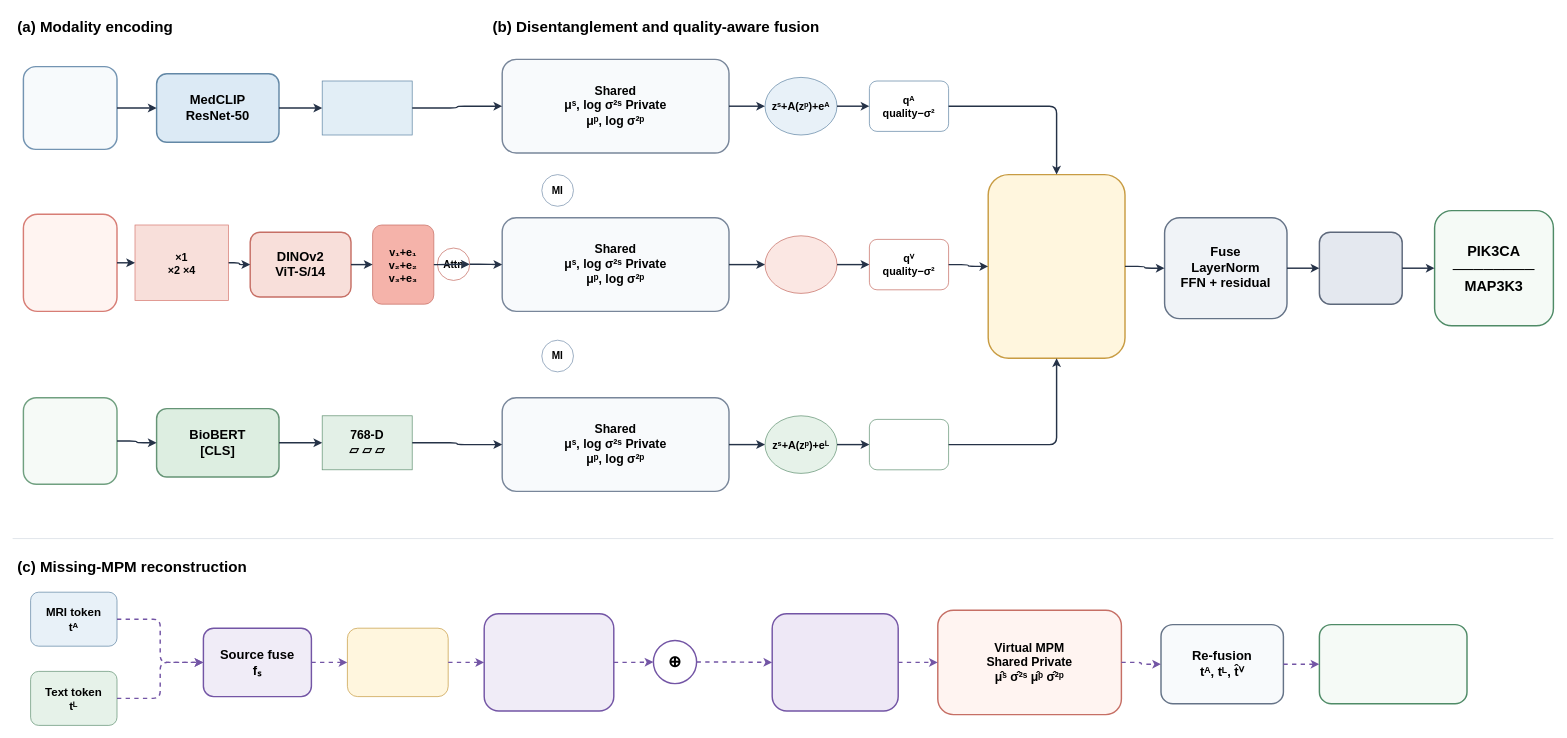
The diagram is 1567 pixels wide and 738 high, and some of its shapes have lost their labels. Each missing label, with the centre of its shape:
"512-D ▱ ▱ ▱" belongs at pixel 366 107.
"Gθ" belongs at pixel 835 662.
"Head" belongs at pixel 1360 268.
"MPM" belongs at pixel 69 262.
"p(y|x)" belongs at pixel 397 662.
"Prediction without MPM" belongs at pixel 1392 664.
"Prototype bank c₀ c₁" belongs at pixel 548 662.
"qᴸ quality−σ²" belongs at pixel 909 444.
"Report" belongs at pixel 69 441.
"ROI-MRI" belongs at pixel 69 108.
"Softmax(q) αᴬ ▬▬▬ αⱽ ▬▬ αᴸ ▬ Σ" belongs at pixel 1056 266.
"zˢ+A(zᵖ)+eⱽ" belongs at pixel 800 264.
